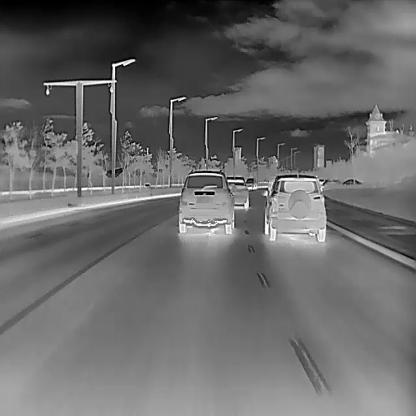car: (260, 172, 326, 242), (178, 168, 237, 233), (226, 174, 248, 210), (344, 177, 362, 185), (245, 176, 256, 188)
